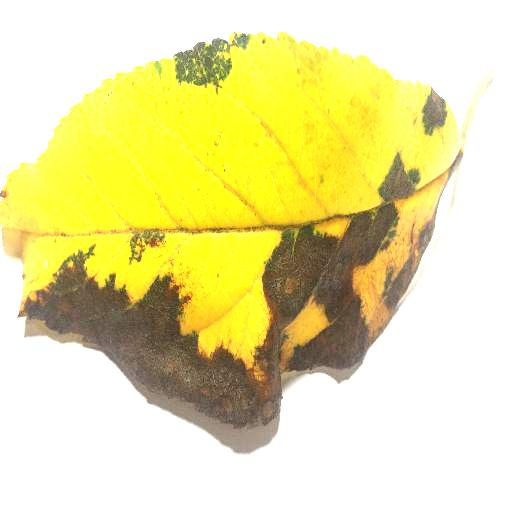Brown_Spot: (37, 235, 269, 445), (271, 226, 393, 375), (376, 218, 437, 316), (164, 38, 263, 89), (417, 89, 463, 139), (381, 159, 428, 201)
